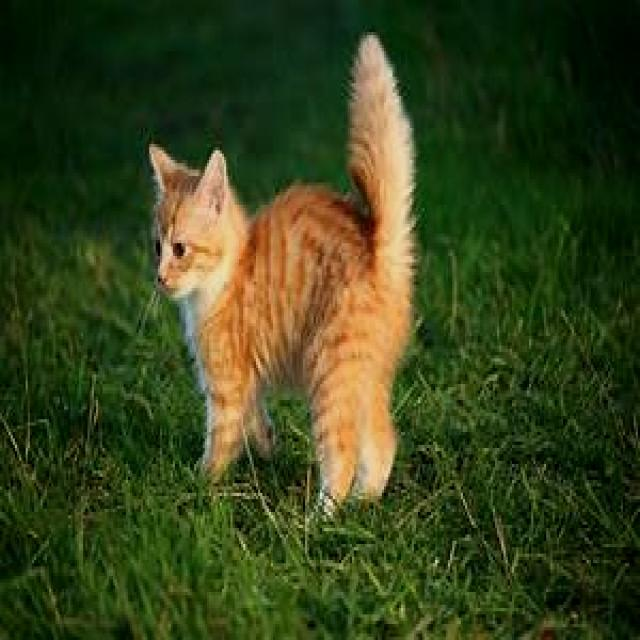KEDI: (147, 31, 407, 514)
